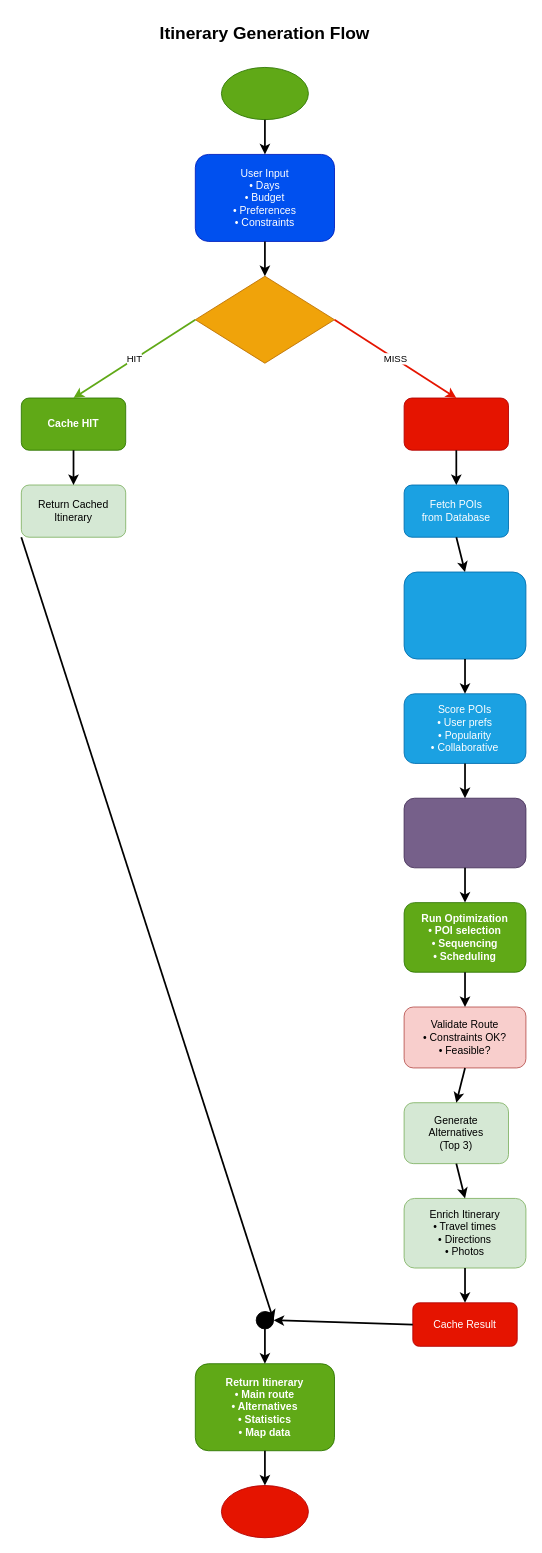
Some shapes in this 542 by 1553 pixel diagram are drawn without their labels. Each missing label, with the centre of its shape:
Apply Filters • Category • Region • Budget • Opening Hours: the point at 464,615
Cache MISS: the point at 456,423
Check Cache (Similar requests?): the point at 264,319
END: the point at 264,1511
Select Algorithm • Problem size • Constraints • Time limit: the point at 464,832
START: the point at 264,93
